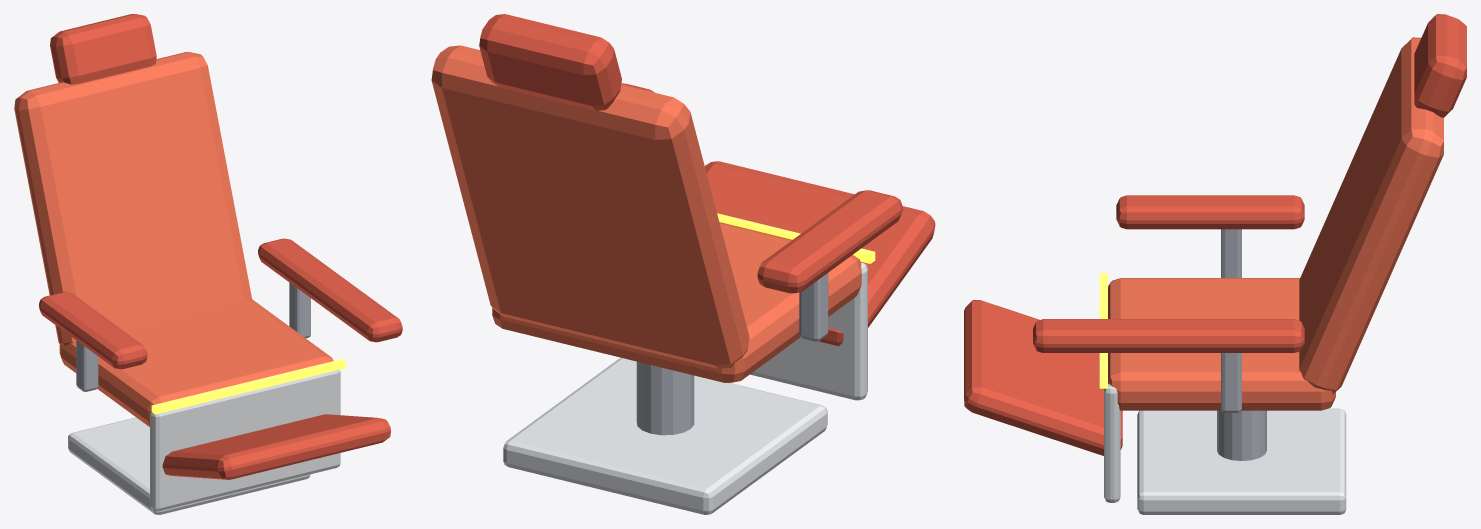
File: donation_chair.glb
3 renders of one model, left to right at view 1: azimuth 30°, elevation 25°; view 2: azimuth 150°, elevation 25°; view 3: azimuth 270°, elevation 25°, orthographic. The views are drawn at different scales.
Visible parts, largest first — view 1: back, seat, skirt, legrest, head, arm1, plinth, arm-1, trim, armpost-1, armpost1; view 2: back, plinth, seat, legrest, head, arm-1, skirt, column, armpost-1, trim; view 3: back, plinth, seat, legrest, arm1, arm-1, head, column, skirt, armpost1, armpost-1, trim.
Boxes of the visible parts, x1=… form: back: x1=14, y1=52, x2=251, y2=345; seat: x1=59, y1=299, x2=333, y2=426; skirt: x1=150, y1=369, x2=340, y2=511; legrest: x1=162, y1=414, x2=390, y2=479; head: x1=50, y1=14, x2=156, y2=84; arm1: x1=258, y1=238, x2=402, y2=342; plinth: x1=68, y1=417, x2=310, y2=514; arm-1: x1=39, y1=292, x2=147, y2=369; trim: x1=151, y1=359, x2=345, y2=414; armpost-1: x1=76, y1=340, x2=98, y2=391; armpost1: x1=289, y1=282, x2=310, y2=338; back: x1=431, y1=45, x2=749, y2=368; plinth: x1=503, y1=358, x2=827, y2=514; seat: x1=492, y1=222, x2=861, y2=382; legrest: x1=705, y1=161, x2=935, y2=346; head: x1=479, y1=14, x2=621, y2=110; arm-1: x1=757, y1=190, x2=902, y2=293; skirt: x1=750, y1=262, x2=867, y2=400; column: x1=636, y1=361, x2=694, y2=435; armpost-1: x1=799, y1=273, x2=828, y2=341; trim: x1=717, y1=213, x2=875, y2=263; back: x1=1299, y1=37, x2=1443, y2=393; plinth: x1=1137, y1=408, x2=1346, y2=514; seat: x1=1108, y1=278, x2=1335, y2=410; legrest: x1=964, y1=300, x2=1122, y2=455; arm1: x1=1033, y1=319, x2=1304, y2=352; arm-1: x1=1116, y1=195, x2=1304, y2=229; head: x1=1414, y1=14, x2=1466, y2=117; column: x1=1217, y1=410, x2=1266, y2=460; skirt: x1=1104, y1=285, x2=1120, y2=502; armpost1: x1=1221, y1=353, x2=1241, y2=412; armpost-1: x1=1221, y1=229, x2=1241, y2=277; trim: x1=1099, y1=273, x2=1107, y2=388.
Size of the model in its own units: 1.62 by 2.31 by 2.41.
